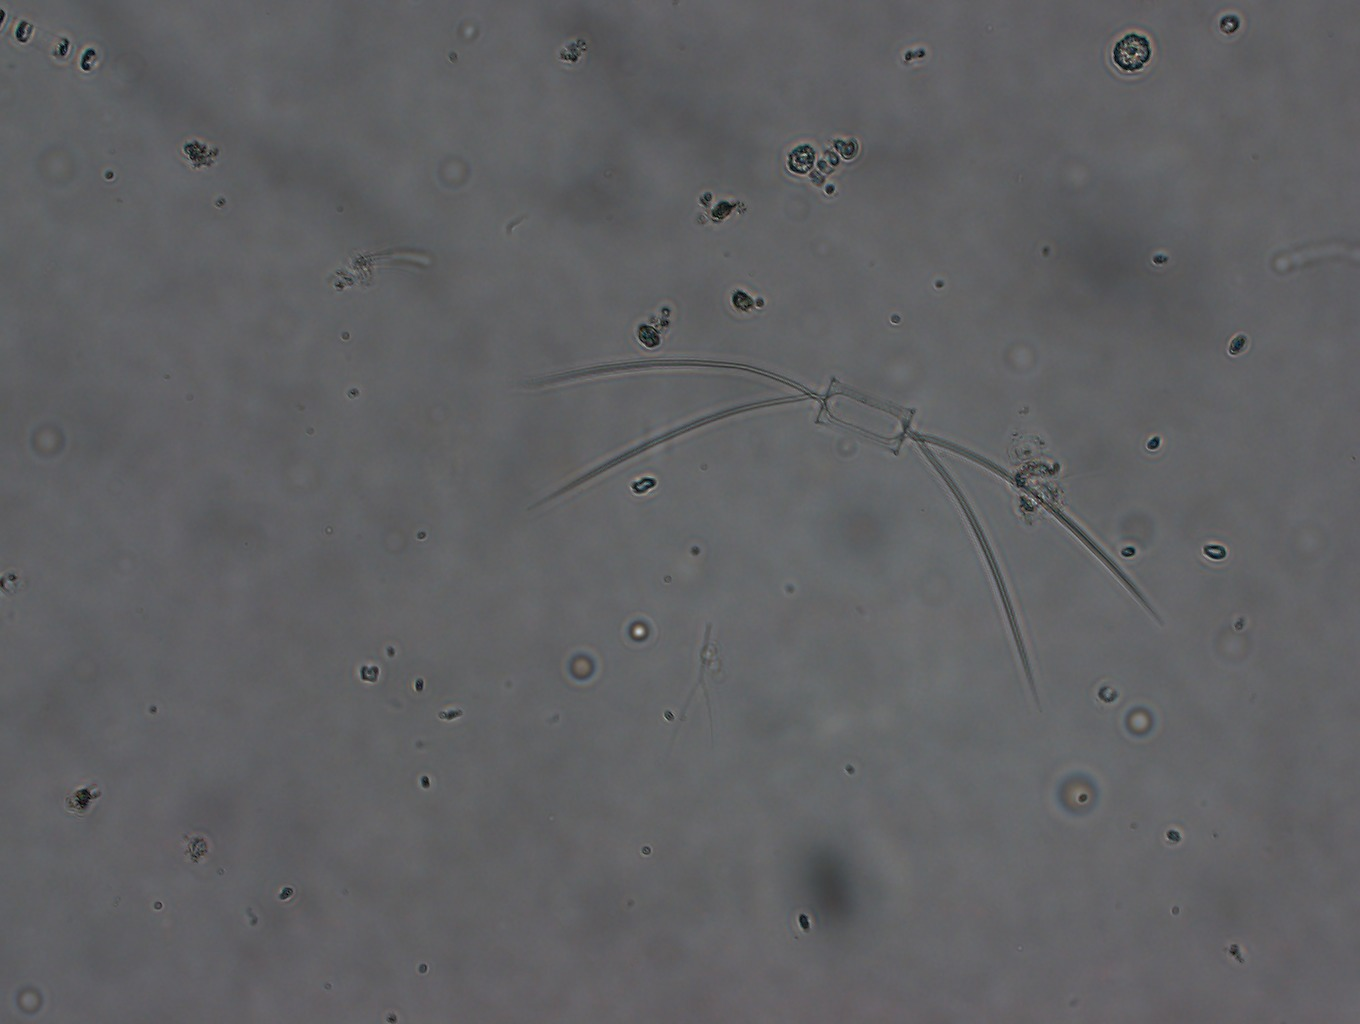chaetoceros: (507, 339, 1166, 719)
